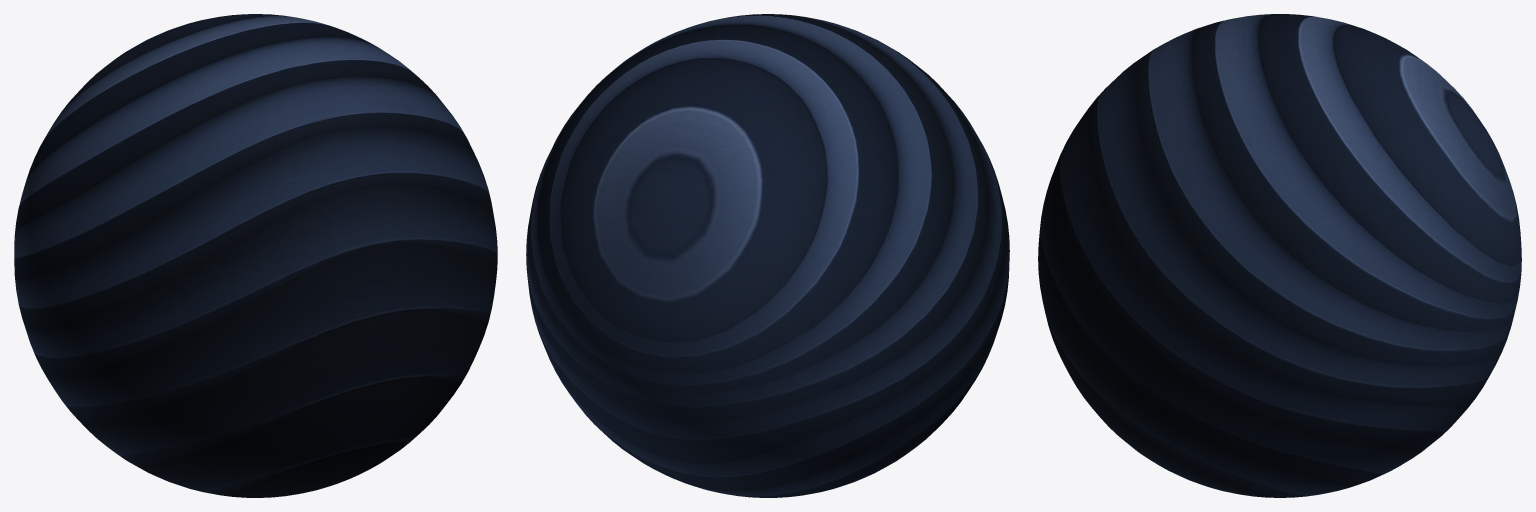
3 views of the same model, side by side, from view 1: azimuth 30°, elevation 25°; view 2: azimuth 150°, elevation 25°; view 3: azimuth 270°, elevation 25° (orthographic).
Parts seen in each view (by area): view 1: meshes_0; view 2: meshes_0; view 3: meshes_0.
Part boxes in pixels (left/top/right/bottom): meshes_0: left=14, top=14, right=497, bottom=497; meshes_0: left=526, top=14, right=1009, bottom=497; meshes_0: left=1038, top=14, right=1521, bottom=497.
Bounding box in the file's own units: 1.95 × 1.95 × 1.95.
Materials: 1 (1 with a texture image).
